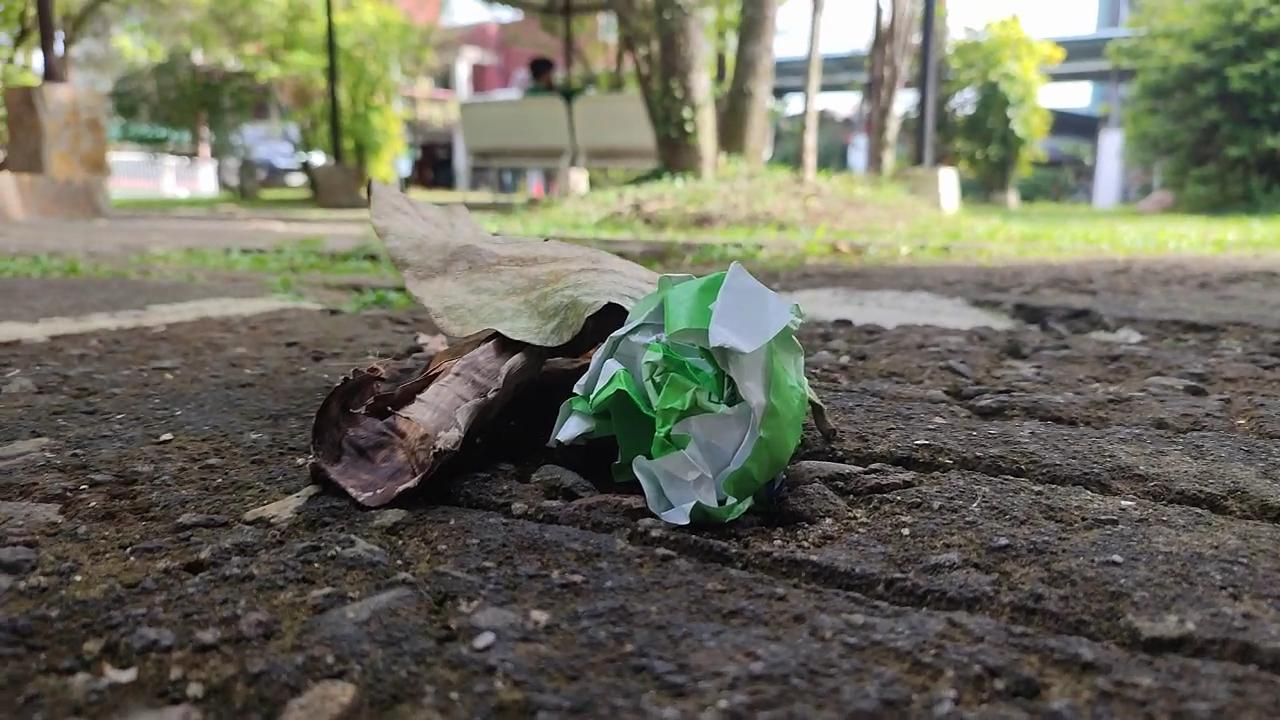Paper: (535, 250, 815, 531)
